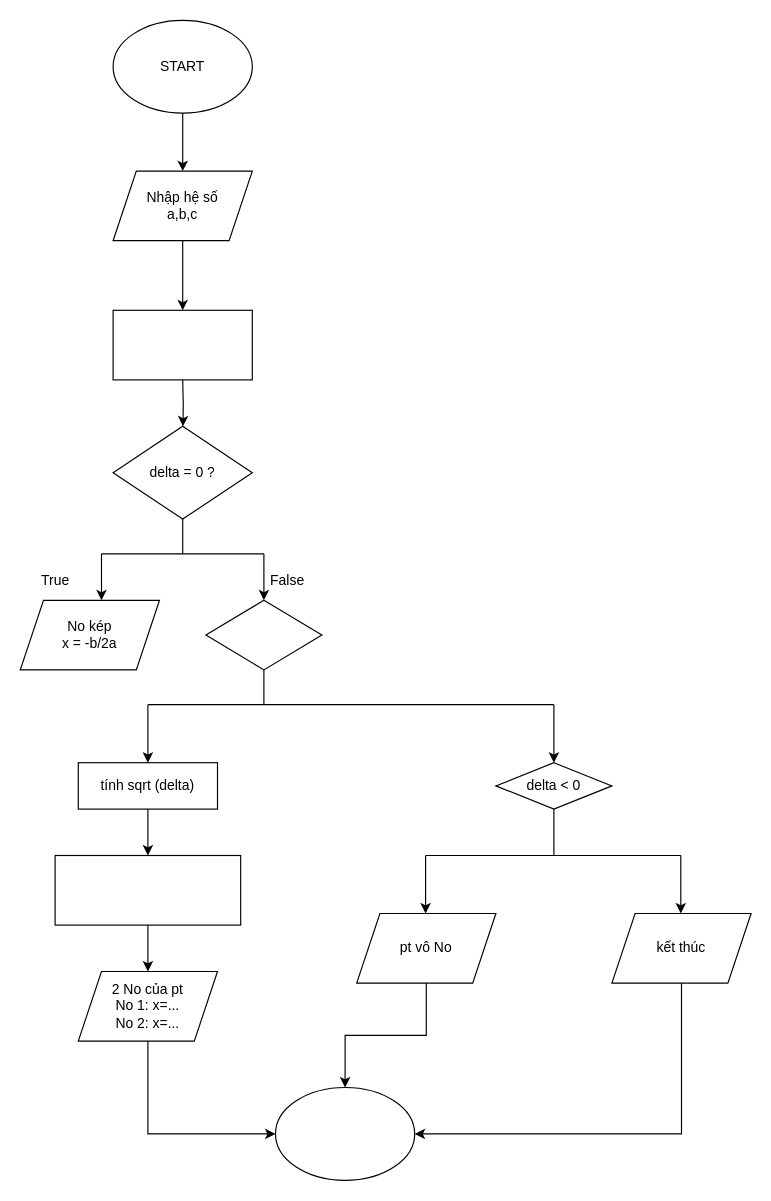
Some shapes in this 771 by 1201 pixel diagram are drawn without their labels. The shapes that lost their labels are listed below. From the top down, each one's box as (x1, y1, x2, y2) in pixels, then its label:
(112, 309, 252, 380): Tính delta delta= b^2 - 4ac
(205, 599, 322, 670): delta > 0
(54, 854, 241, 925): No 1: (-b+ sqrt(delta))/2a No 2: (-b- sqrt(delta))/2a
(274, 1086, 415, 1180): END
